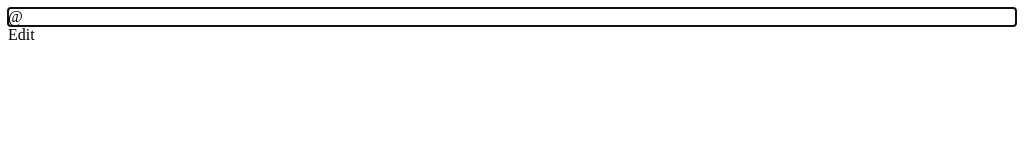
Test case: completion list: the active entry follows real pointer movement › keeps the keyboard row when the list opens under a resting pointer
Clear the field named "Edit" at (15, 16), box x1=8 y1=8 x2=23 y2=25
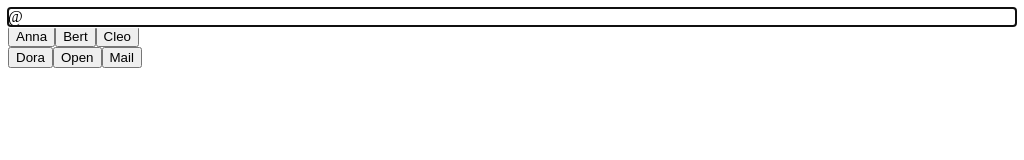
Result: the list is shown at x1=8 y1=26 x2=142 y2=68
